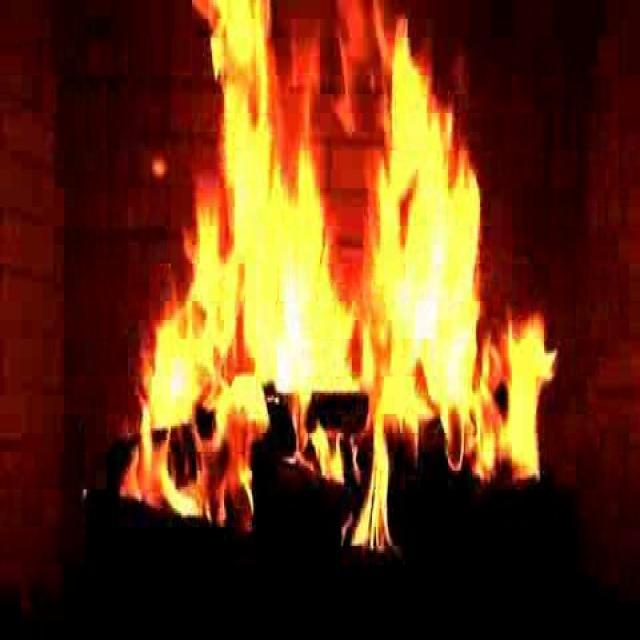Fire: (159, 41, 511, 510)
